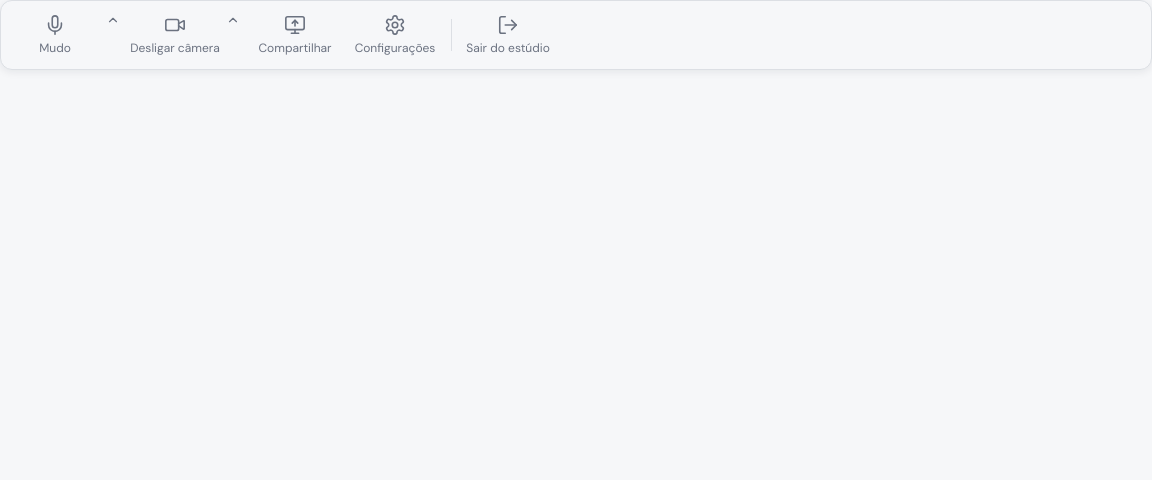
setinha do microfone › devicechange: AirPods conectam com o menu fechado -> aviso discreto e entram na lista
Press the mouse on the button named "Opções de áudio" at (113, 35), box [103,5,123,65]
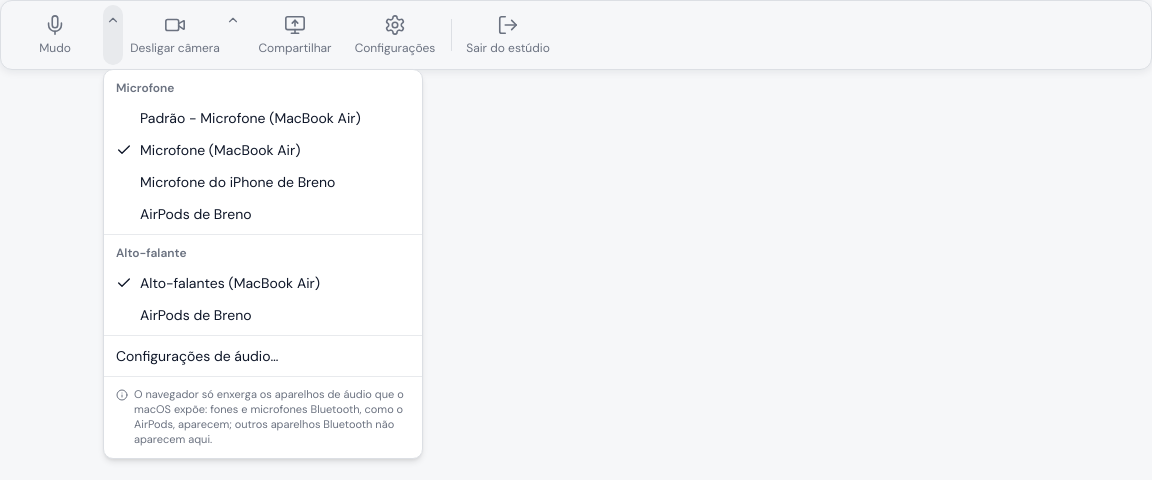
Expected: the menu shows "AirPods de Breno", [140,205,252,223]
